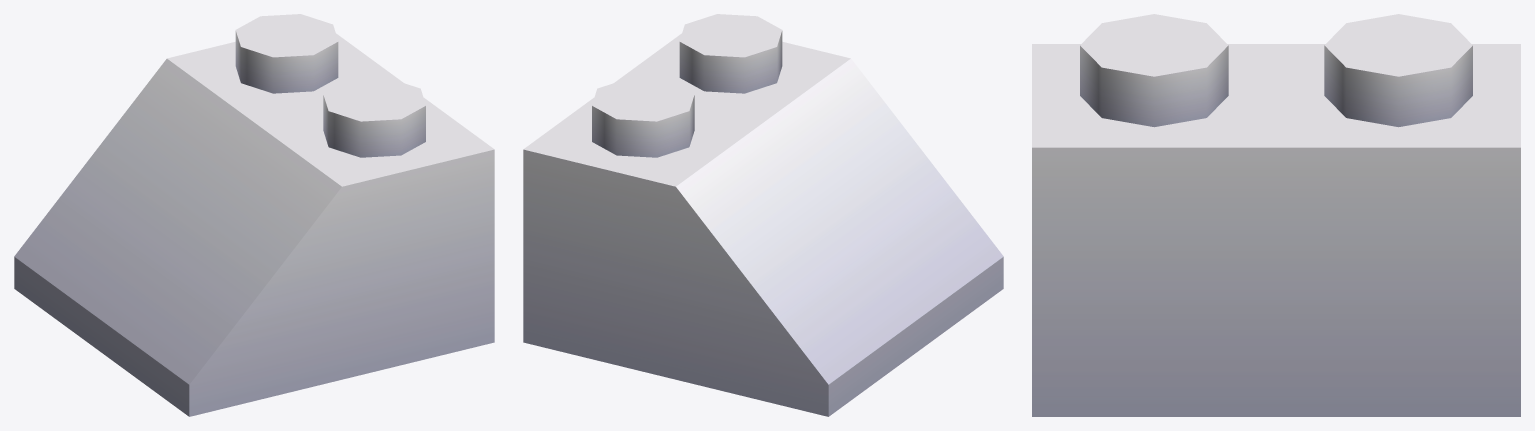
File: kenney-brick-round-lq-brick-slope-2-x-2.glb
3 views of the same model, side by side, from view 1: azimuth 30°, elevation 25°; view 2: azimuth 150°, elevation 25°; view 3: azimuth 270°, elevation 25° (orthographic). The views are drawn at different scales.
Parts seen in each view (by area): view 1: round-lq-brick-slope-2x2; view 2: round-lq-brick-slope-2x2; view 3: round-lq-brick-slope-2x2.
Part boxes in pixels (x1,y1,x2,y2): round-lq-brick-slope-2x2: (14, 14, 494, 416); round-lq-brick-slope-2x2: (523, 14, 1003, 416); round-lq-brick-slope-2x2: (1032, 14, 1520, 416).
Bounding box in the file's own units: 0.159 × 0.114 × 0.158.
1 material, 1 textured.
